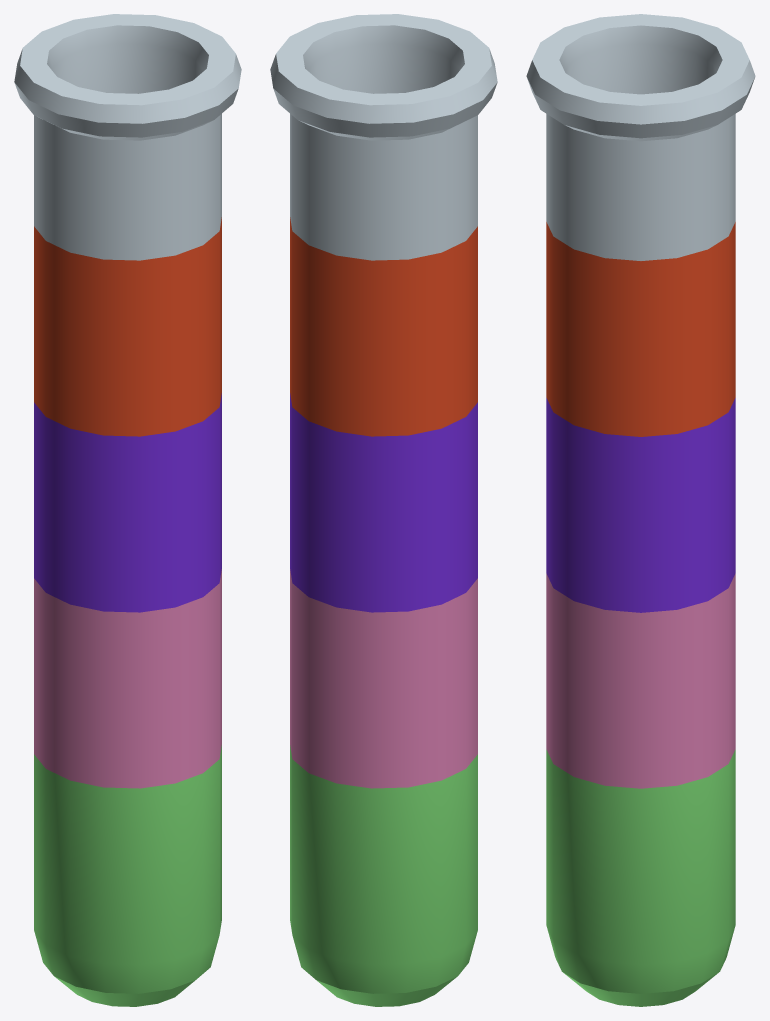
Rendered from vialLarge4Piece.fbx.
3 renders of one model, left to right at view 1: azimuth 30°, elevation 25°; view 2: azimuth 150°, elevation 25°; view 3: azimuth 270°, elevation 25°, orthographic.
Visible parts, largest first — view 1: Vial Large; view 2: Vial Large; view 3: Vial Large.
Boxes of the visible parts, x1,y1,x2,y2 form: Vial Large: (14, 14, 241, 1006); Vial Large: (270, 14, 497, 1006); Vial Large: (526, 14, 755, 1006).
Bounding box in the file's own units: 3.76 × 3.76 × 16.71.
